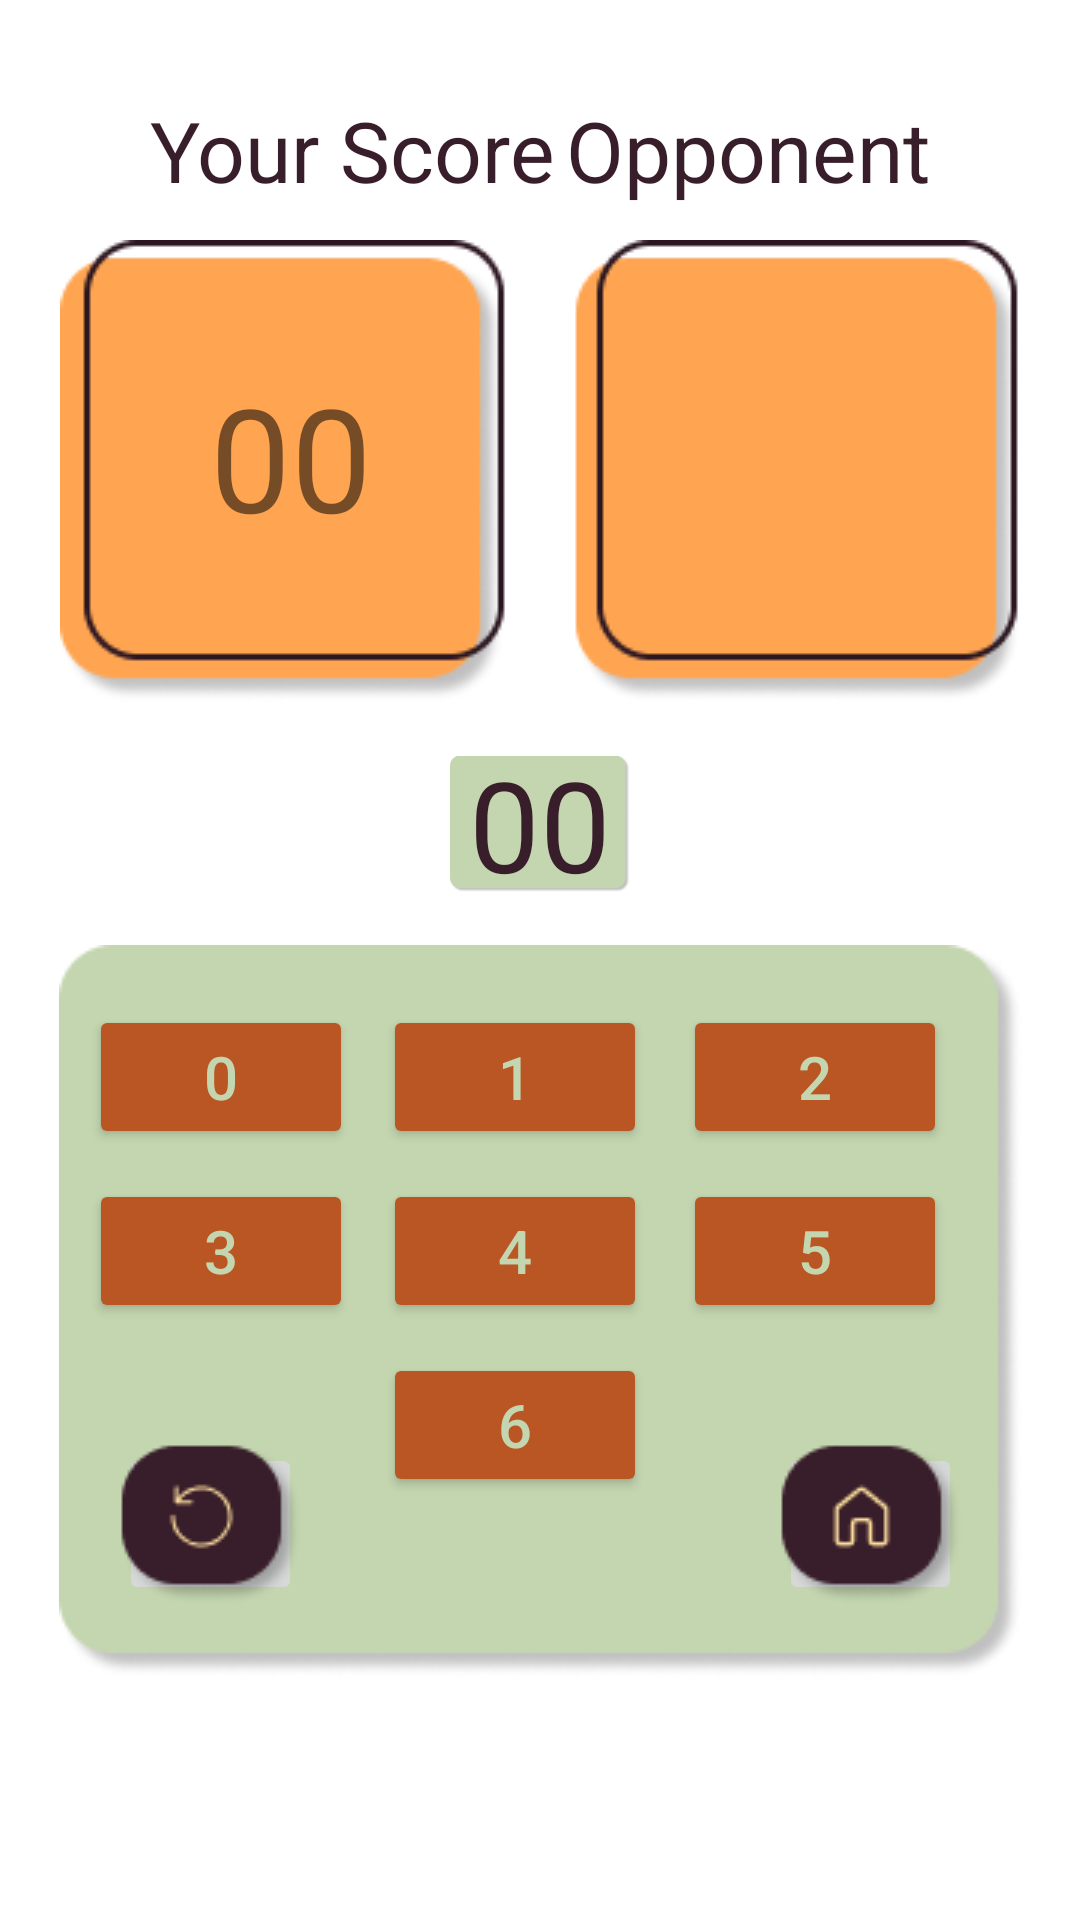

Where icons sit on this 1080x1920 app screen, as (x1, y1, x2, y2):
home: (781, 1445, 951, 1594)
reset: (121, 1445, 291, 1594)
